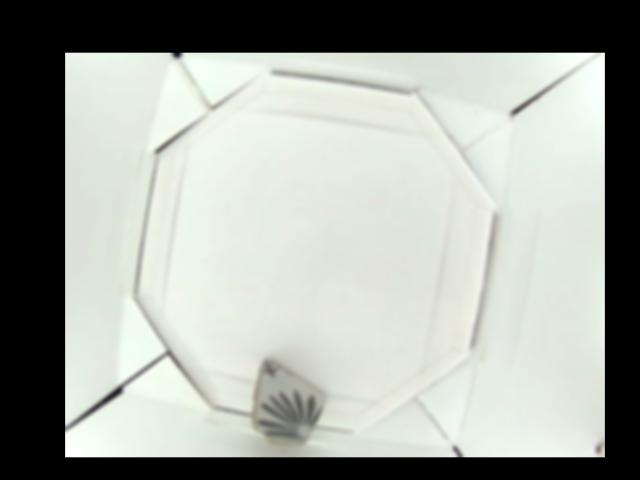China: (250, 357, 326, 446)
